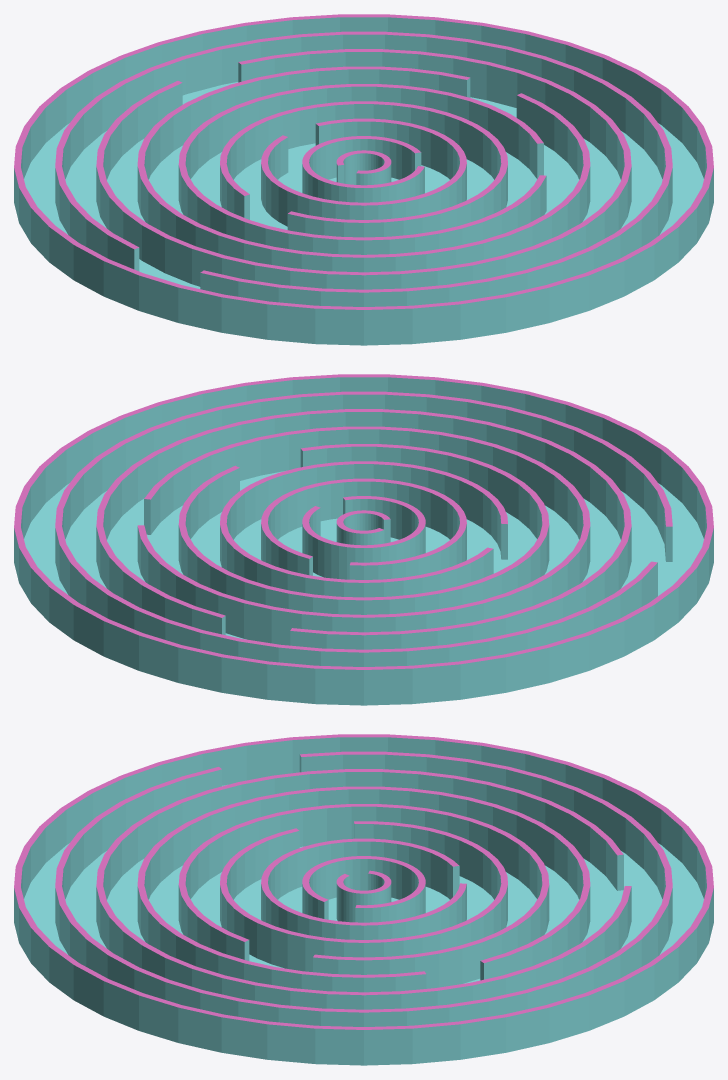
File: level6.fbx
3 renders of one model, top to bottom at view 1: azimuth 30°, elevation 25°; view 2: azimuth 150°, elevation 25°; view 3: azimuth 270°, elevation 25°, orthographic.
Visible parts, largest first — view 1: Vert; view 2: Vert; view 3: Vert.
Part boxes in pixels (x1,y1,x2,y2): Vert: (14,14,713,345); Vert: (14,374,713,705); Vert: (14,734,713,1065).
Size of the model in its own units: 4461 by 250 by 4463.
